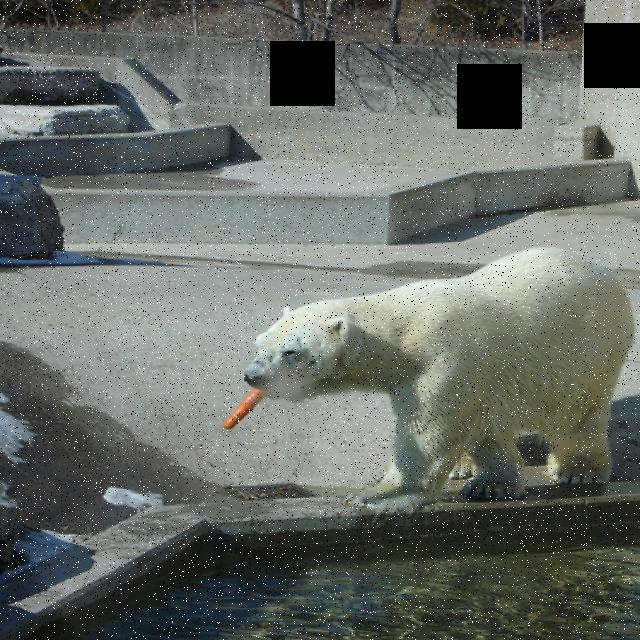Bear: (230, 242, 629, 498)
